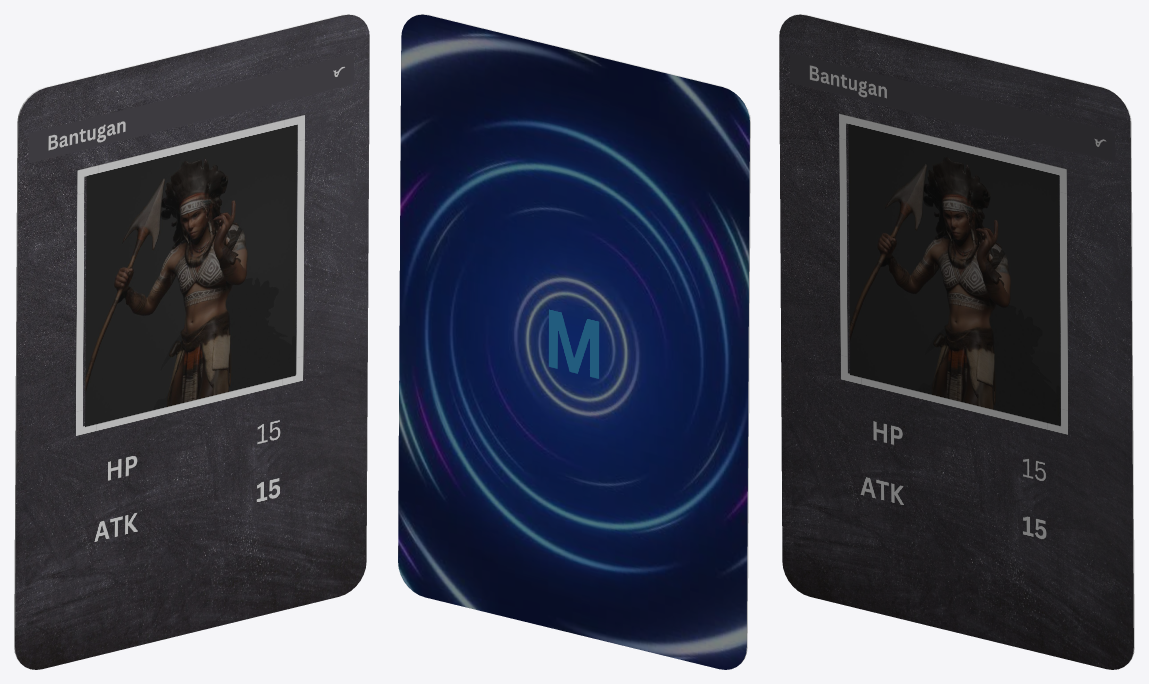
File: Bantugan.glb
3 views of the same model, side by side, from view 1: azimuth 30°, elevation 25°; view 2: azimuth 150°, elevation 25°; view 3: azimuth 330°, elevation 25° (orthographic).
Parts seen in each view (by area): view 1: Card; view 2: Card; view 3: Card.
Boxes of the visible parts, x1=… form: Card: x1=14, y1=14, x2=369, y2=669; Card: x1=398, y1=14, x2=750, y2=669; Card: x1=779, y1=14, x2=1134, y2=669.
Bounding box in the file's own units: 0.056 × 0.0889 × 0.00122.
3 materials, 2 textured.
